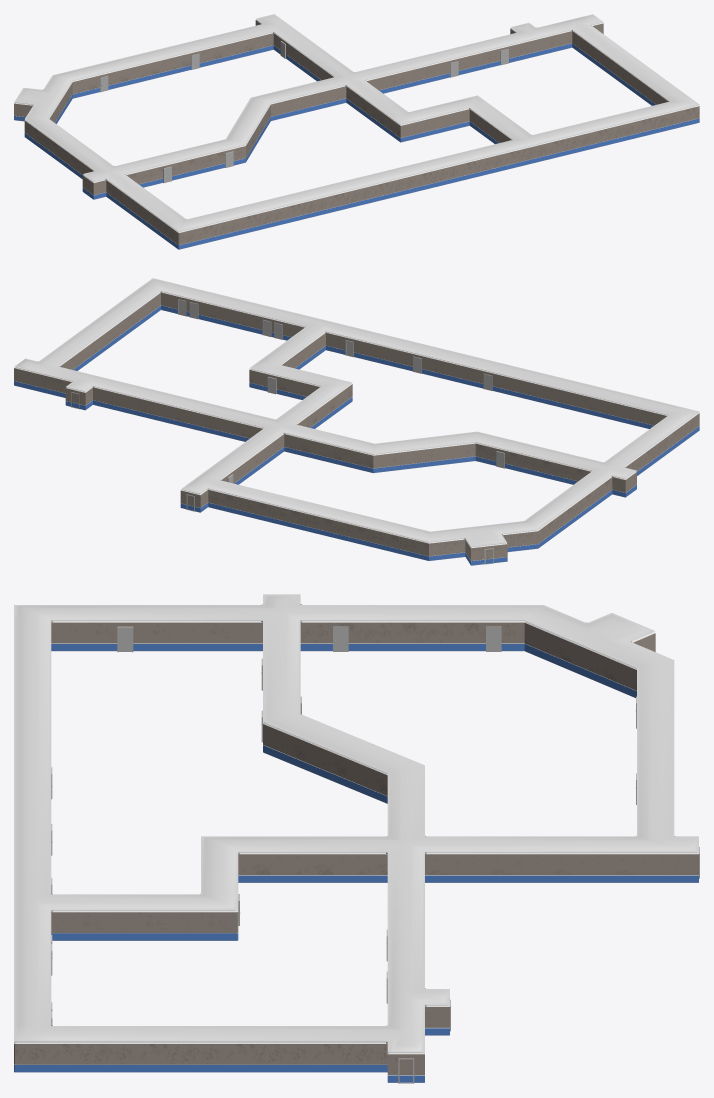
The model's file is Enviroment_General.fbx.
The picture shows the model from 3 angles, top to bottom: view 1: azimuth 30°, elevation 25°; view 2: azimuth 150°, elevation 25°; view 3: azimuth 270°, elevation 25°; orthographic projection. The views are drawn at different scales.
Parts seen in each view (by area): view 1: S_NA_HallwayRoof, Sector_B_Walls.004, Sector_B_Walls, Sector_A_Walls, Sector_C_Walls, Sector_C-E_Walls_1, Sector_BC_WallCap; view 2: S_NA_HallwayRoof, Sector_B_Walls, Sector_C-E_Walls_1, Sector_C_Walls, Sector_A_Walls, Sector_AC-E_Walls_1, Sector_B_Walls.004, Sector_C_Wide_WallCap, Sector_A-E_Walls_1, Sector_A_WallCap_1.001, Sector_A_WallCap_1, Sector_BC_WallCap; view 3: S_NA_HallwayRoof, Sector_B_Walls.004, Sector_A_Walls, Sector_B_Walls, Sector_C_Walls, Sector_AC-E_Walls_1, Sector_A_WallCap_2, Sector_A_WallCap_1.001, Sector_A_WallCap_1.
Boxes of the visible parts, bbox=[...] form: S_NA_HallwayRoof: bbox=[14, 14, 699, 231]; Sector_B_Walls.004: bbox=[106, 105, 699, 249]; Sector_B_Walls: bbox=[126, 85, 512, 187]; Sector_A_Walls: bbox=[366, 30, 669, 105]; Sector_C_Walls: bbox=[49, 32, 334, 123]; Sector_C-E_Walls_1: bbox=[24, 120, 94, 179]; Sector_BC_WallCap: bbox=[82, 175, 106, 199]; S_NA_HallwayRoof: bbox=[14, 278, 699, 546]; Sector_B_Walls: bbox=[281, 332, 667, 428]; Sector_C-E_Walls_1: bbox=[208, 476, 612, 560]; Sector_C_Walls: bbox=[220, 433, 591, 484]; Sector_A_Walls: bbox=[59, 291, 320, 399]; Sector_AC-E_Walls_1: bbox=[93, 386, 263, 441]; Sector_B_Walls.004: bbox=[624, 412, 699, 476]; Sector_C_Wide_WallCap: bbox=[465, 539, 507, 565]; Sector_A-E_Walls_1: bbox=[27, 370, 72, 397]; Sector_A_WallCap_1.001: bbox=[180, 489, 208, 512]; Sector_A_WallCap_1: bbox=[65, 387, 92, 410]; Sector_BC_WallCap: bbox=[612, 471, 636, 497]; S_NA_HallwayRoof: bbox=[14, 594, 698, 1052]; Sector_B_Walls.004: bbox=[14, 1041, 387, 1072]; Sector_A_Walls: bbox=[51, 852, 387, 940]; Sector_B_Walls: bbox=[51, 620, 387, 803]; Sector_C_Walls: bbox=[300, 620, 636, 697]; Sector_AC-E_Walls_1: bbox=[425, 852, 674, 882]; Sector_A_WallCap_2: bbox=[387, 1052, 424, 1082]; Sector_A_WallCap_1.001: bbox=[674, 852, 698, 882]; Sector_A_WallCap_1: bbox=[425, 1005, 449, 1035].
Bounding box in the file's own units: 87.1 × 55.07 × 2.89.
